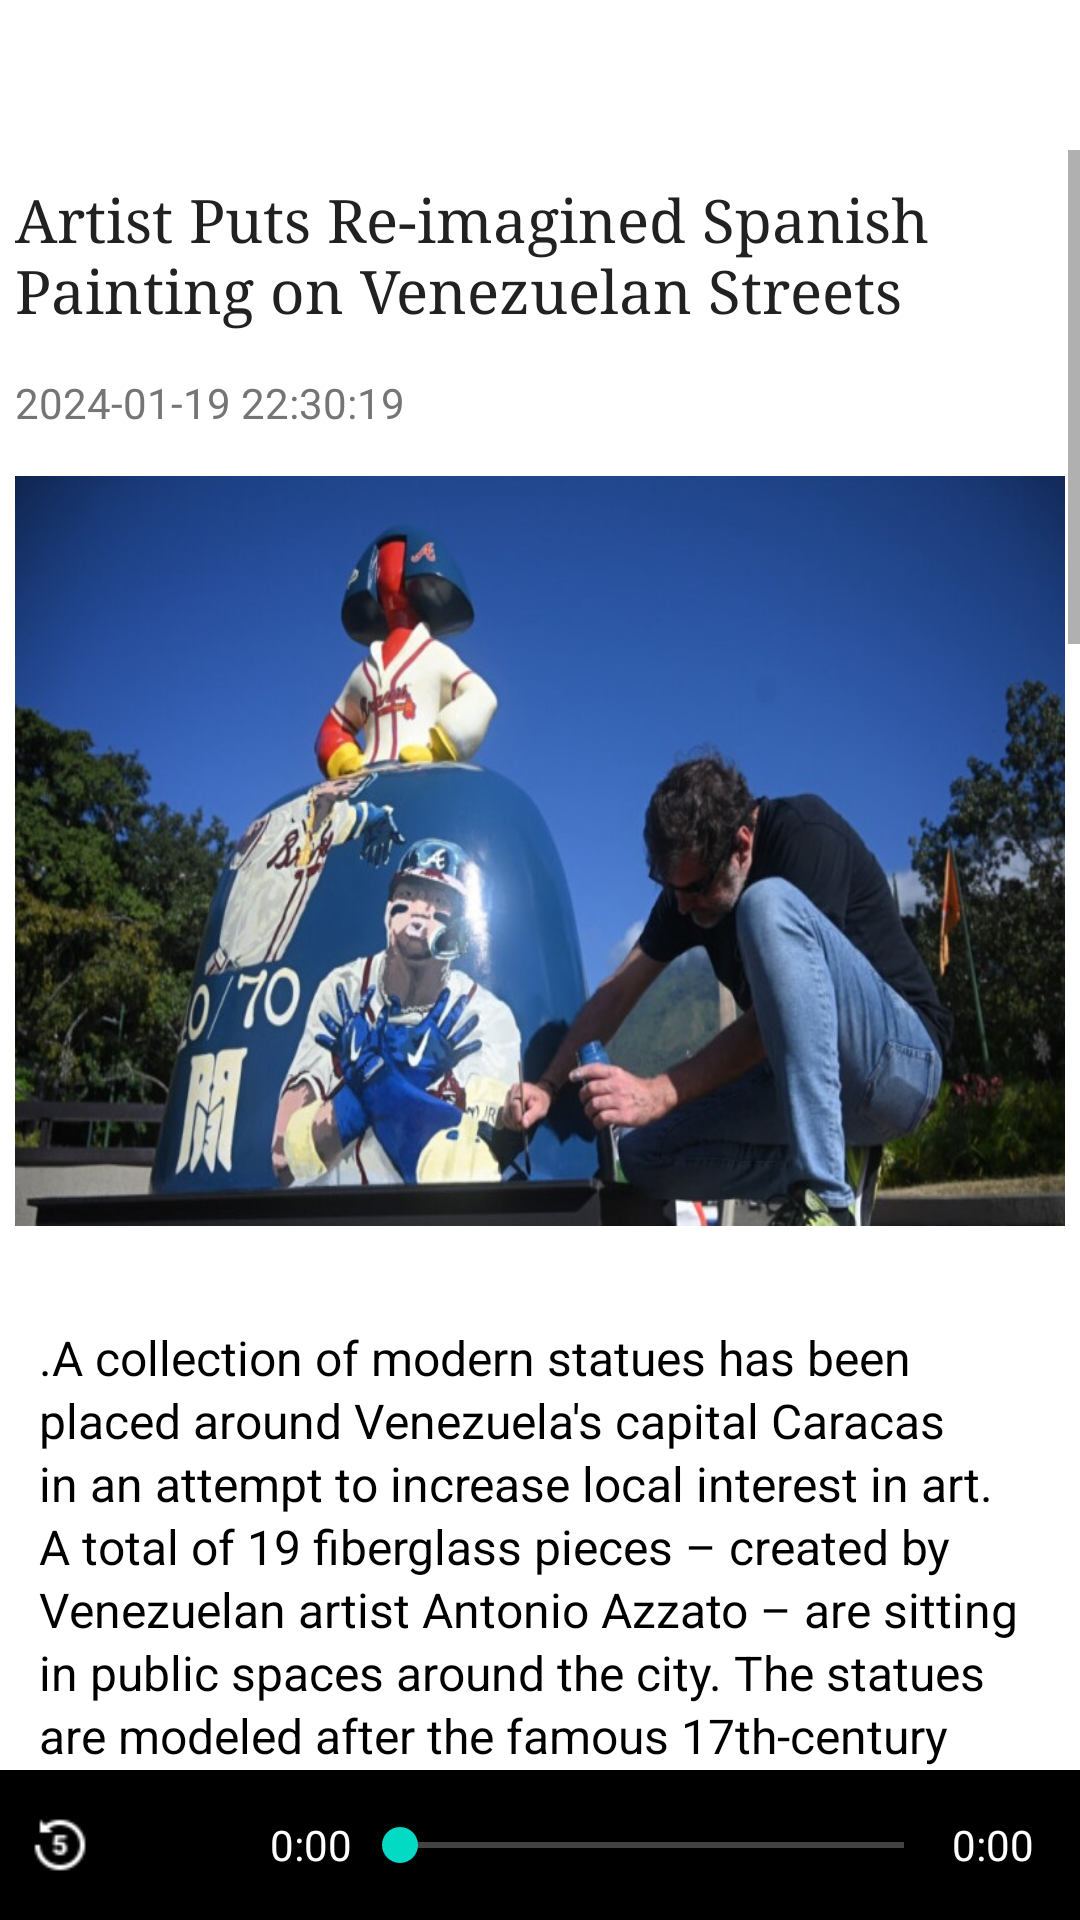

Point at icon controls on the screen. Image size 1080px x 1920px, points as point (x, y).
replay: point (60, 1845)
